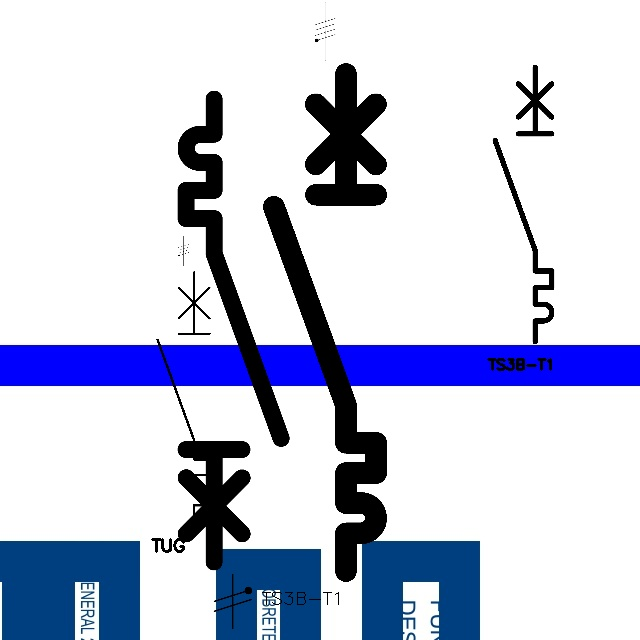interruptor_termomagnetico: (261, 61, 389, 584), (174, 87, 293, 573), (488, 60, 559, 349), (151, 266, 216, 531)
